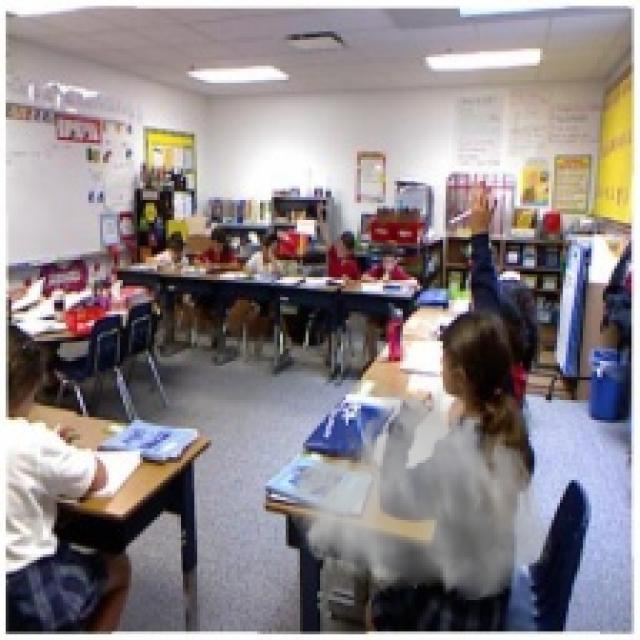Smoke: (286, 380, 554, 603)
